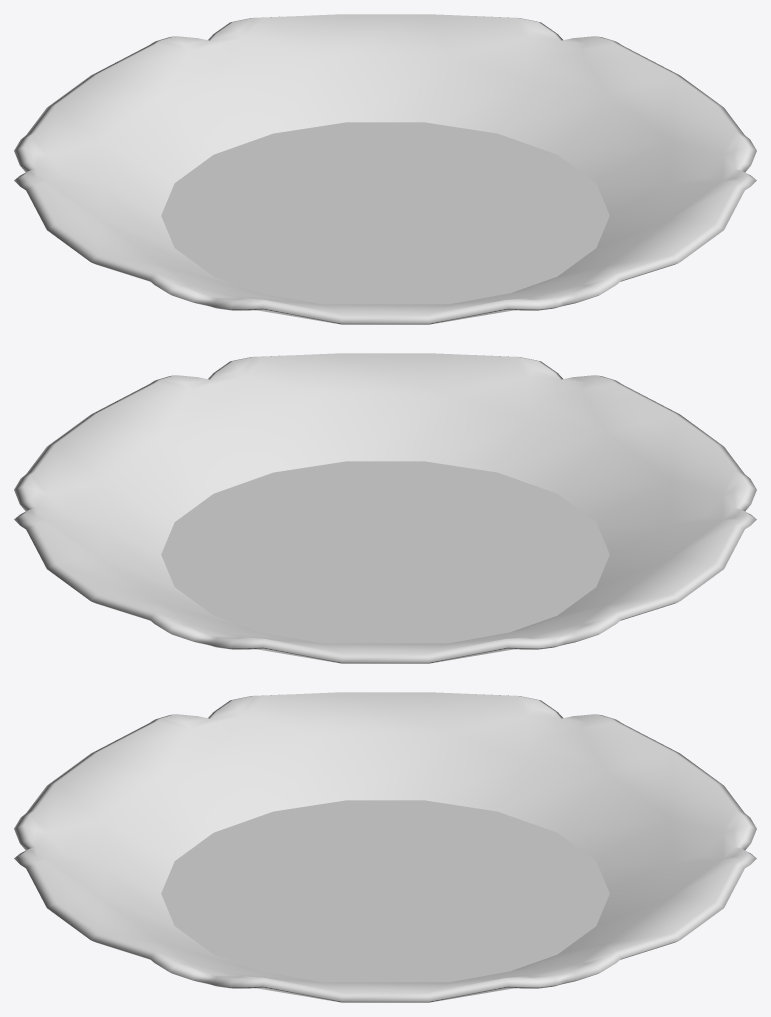
File: Hea_Player_Teller.fbx
3 renders of one model, top to bottom at view 1: azimuth 30°, elevation 25°; view 2: azimuth 150°, elevation 25°; view 3: azimuth 270°, elevation 25°, orthographic.
Visible parts, largest first — view 1: Tea_Plate; view 2: Tea_Plate; view 3: Tea_Plate.
Boxes of the visible parts, left/top/right/bottom form: Tea_Plate: left=14, top=14, right=756, bottom=324; Tea_Plate: left=14, top=353, right=756, bottom=663; Tea_Plate: left=14, top=692, right=756, bottom=1002.
Bounding box in the file's own units: 18.67 × 1.85 × 18.97.
